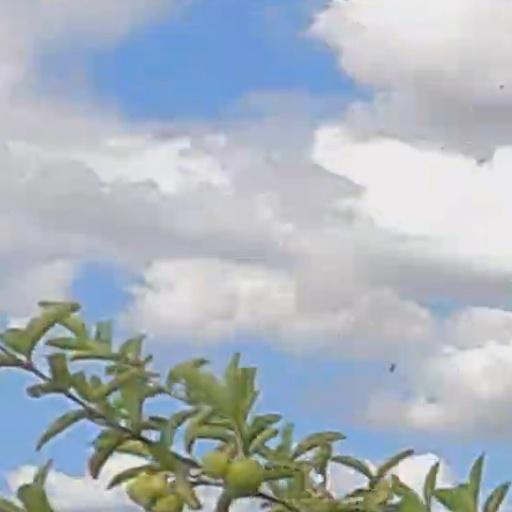acerola: (226, 465, 263, 494)
